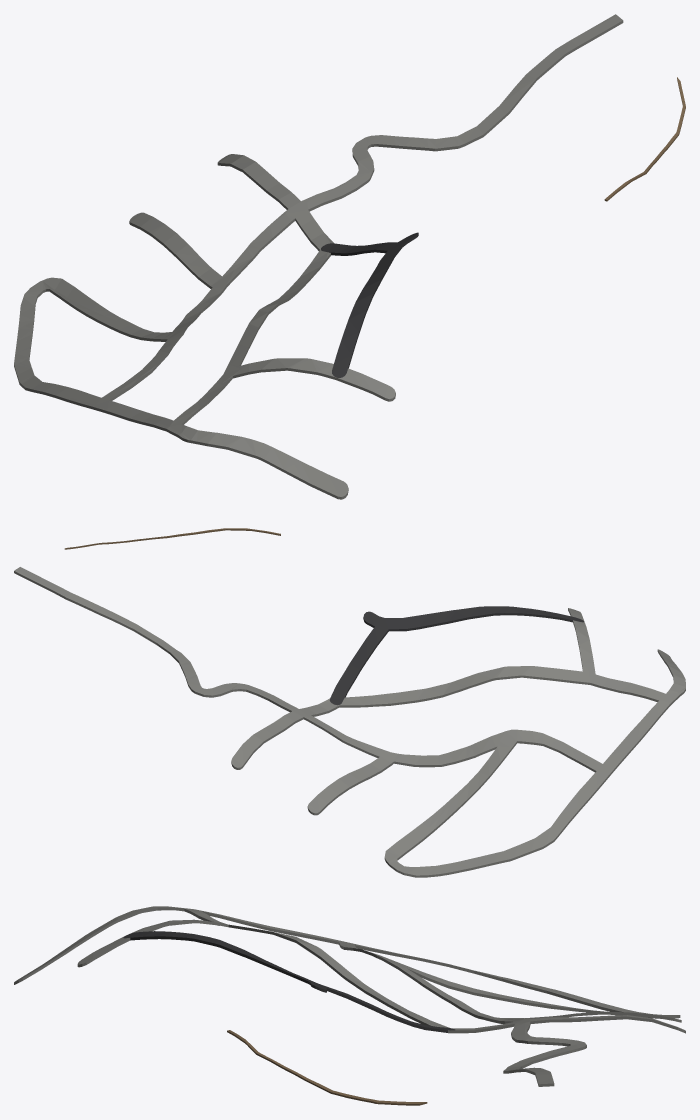
3 renders of one model, top to bottom at view 1: azimuth 30°, elevation 25°; view 2: azimuth 150°, elevation 25°; view 3: azimuth 270°, elevation 25°, orthographic. The views are drawn at different scales.
Bounding box in the file's own units: 293 × 92.74 × 264.
